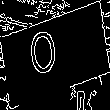O_S: (38, 25, 72, 85)
